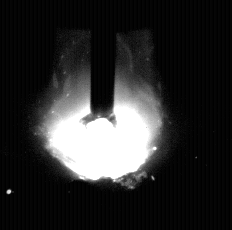arame: (91, 0, 116, 122)
poca: (41, 0, 161, 230)
